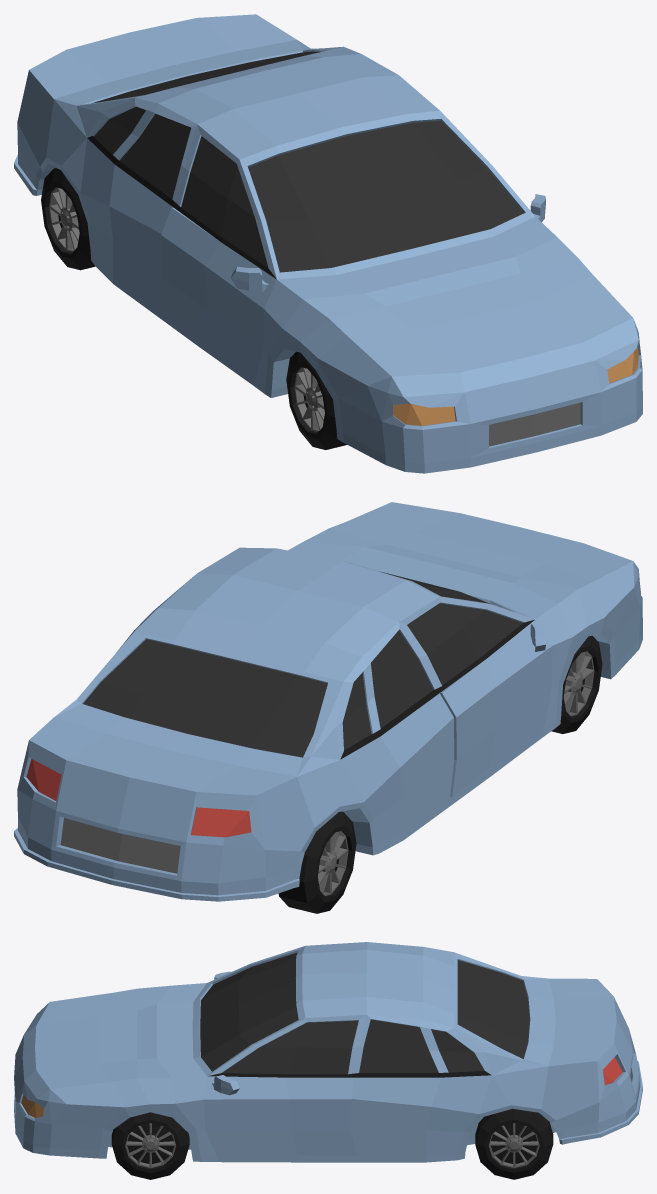
Rendered from sedan.glb.
The picture shows the model from 3 angles, top to bottom: view 1: azimuth 30°, elevation 25°; view 2: azimuth 150°, elevation 25°; view 3: azimuth 270°, elevation 25°; orthographic projection. The views are drawn at different scales.
Parts seen in each view (by area): view 1: NormalCar1_Cube.012, NormalCar1_BackWheels_Cube.011, NormalCar1_FrontRightWheel_Cube.008; view 2: NormalCar1_Cube.012, NormalCar1_BackWheels_Cube.011, NormalCar1_FrontRightWheel_Cube.008; view 3: NormalCar1_Cube.012, NormalCar1_BackWheels_Cube.011, NormalCar1_FrontLeftWheel_Cube.007.
Boxes of the visible parts, x1,y1,x2,y2 form: NormalCar1_Cube.012: (14, 14, 642, 473); NormalCar1_BackWheels_Cube.011: (41, 168, 95, 270); NormalCar1_FrontRightWheel_Cube.008: (286, 351, 346, 449); NormalCar1_Cube.012: (14, 502, 642, 901); NormalCar1_BackWheels_Cube.011: (278, 811, 356, 913); NormalCar1_FrontRightWheel_Cube.008: (551, 635, 602, 733); NormalCar1_Cube.012: (14, 942, 642, 1162); NormalCar1_BackWheels_Cube.011: (475, 1108, 553, 1179); NormalCar1_FrontLeftWheel_Cube.007: (111, 1112, 189, 1179).
Bounding box in the file's own units: 1.81 × 1.18 × 4.22.
